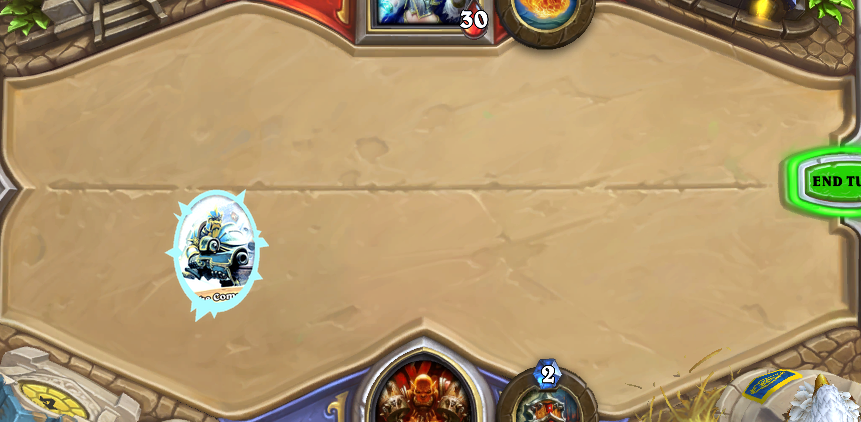CS2_150: (164, 188, 270, 323)
